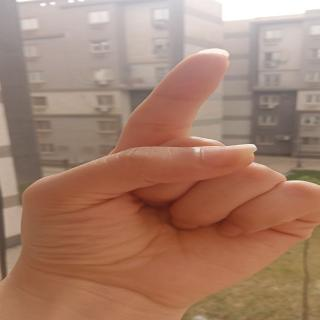BAA: (9, 39, 320, 312)
